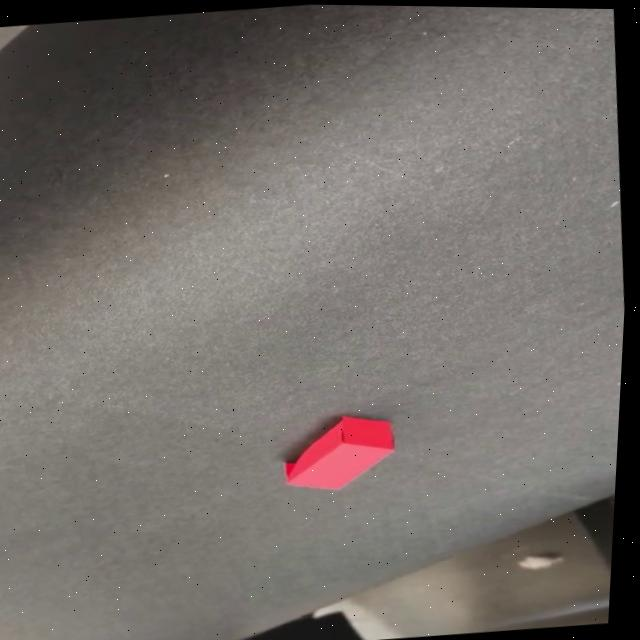red block: (278, 410, 402, 496)
